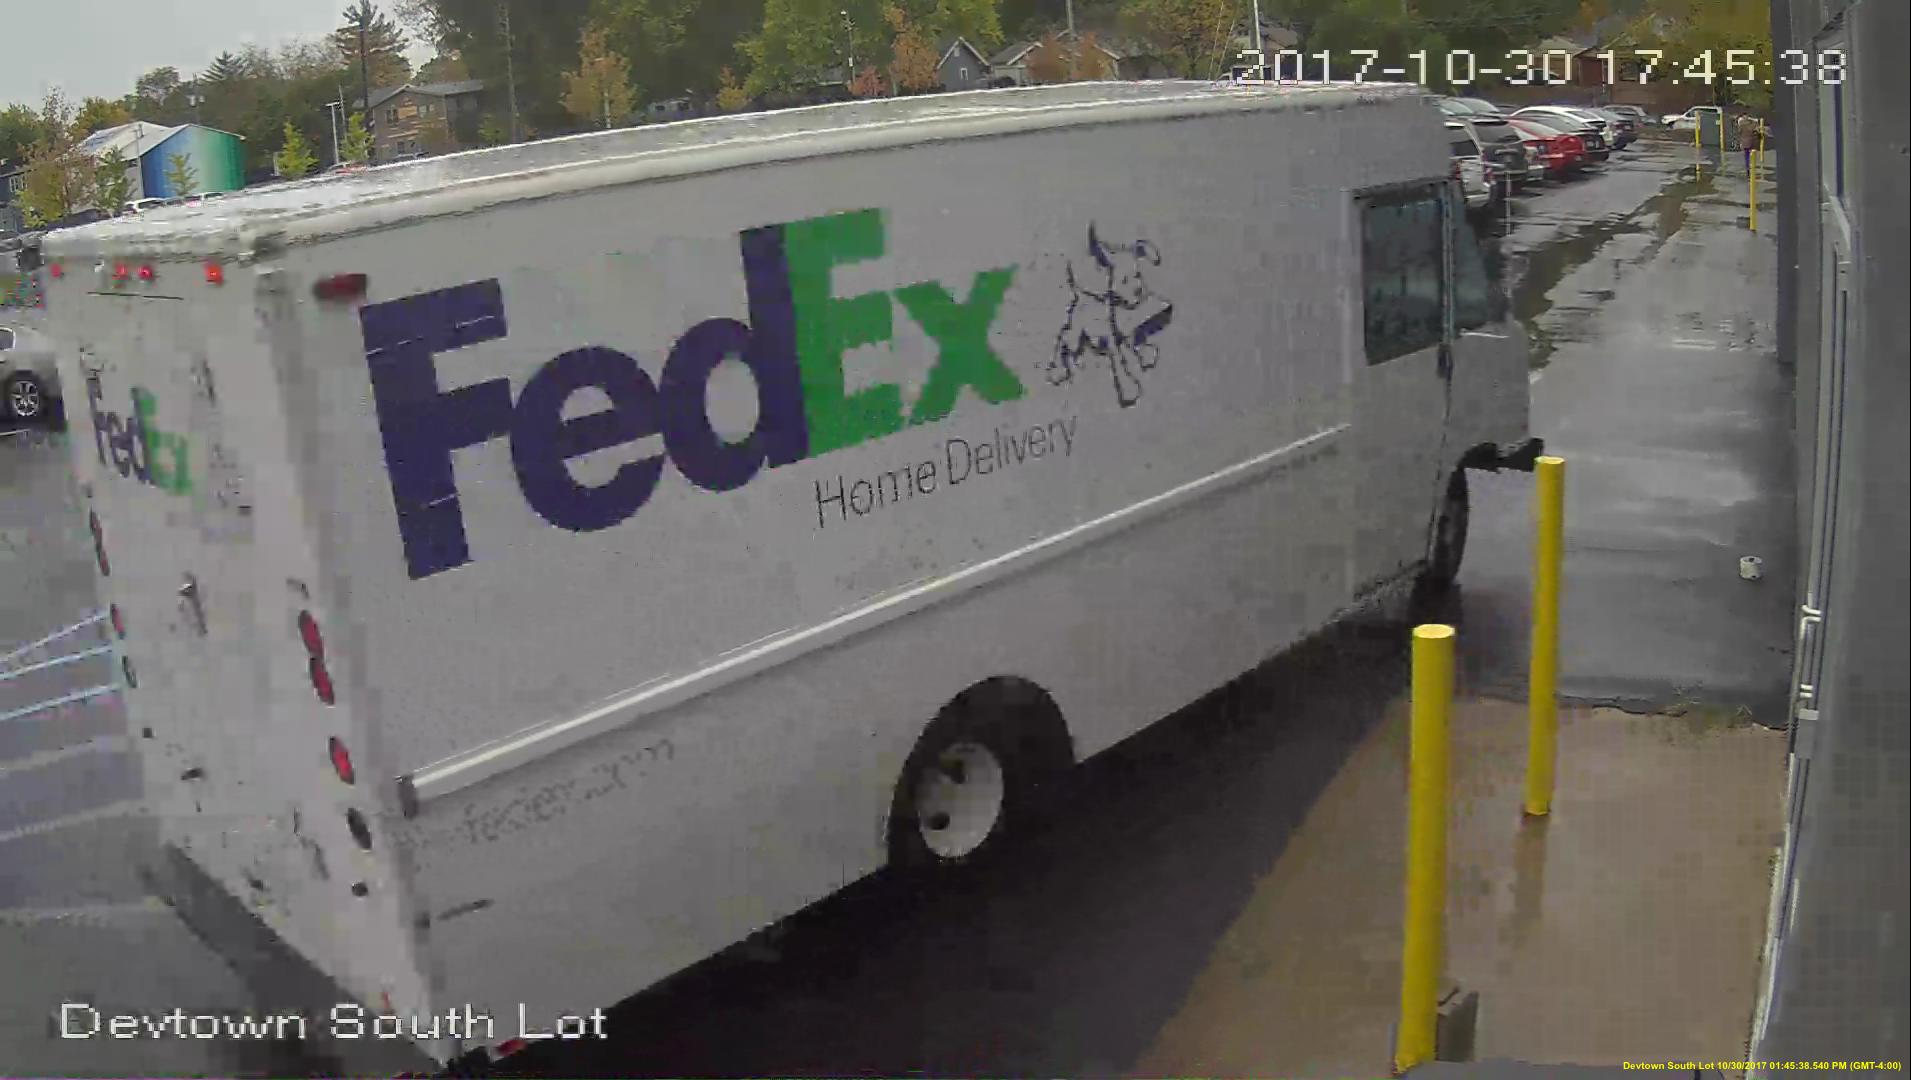fedex_truck: (49, 58, 1526, 1041)
